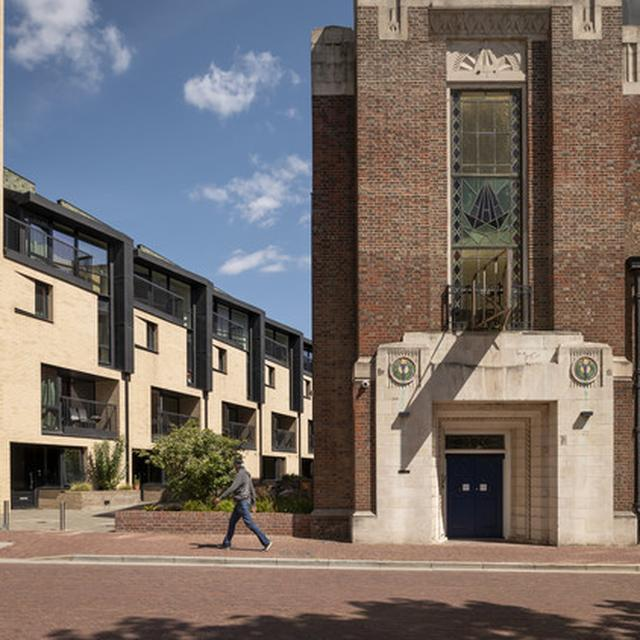building: (313, 2, 640, 564), (0, 155, 310, 510)
